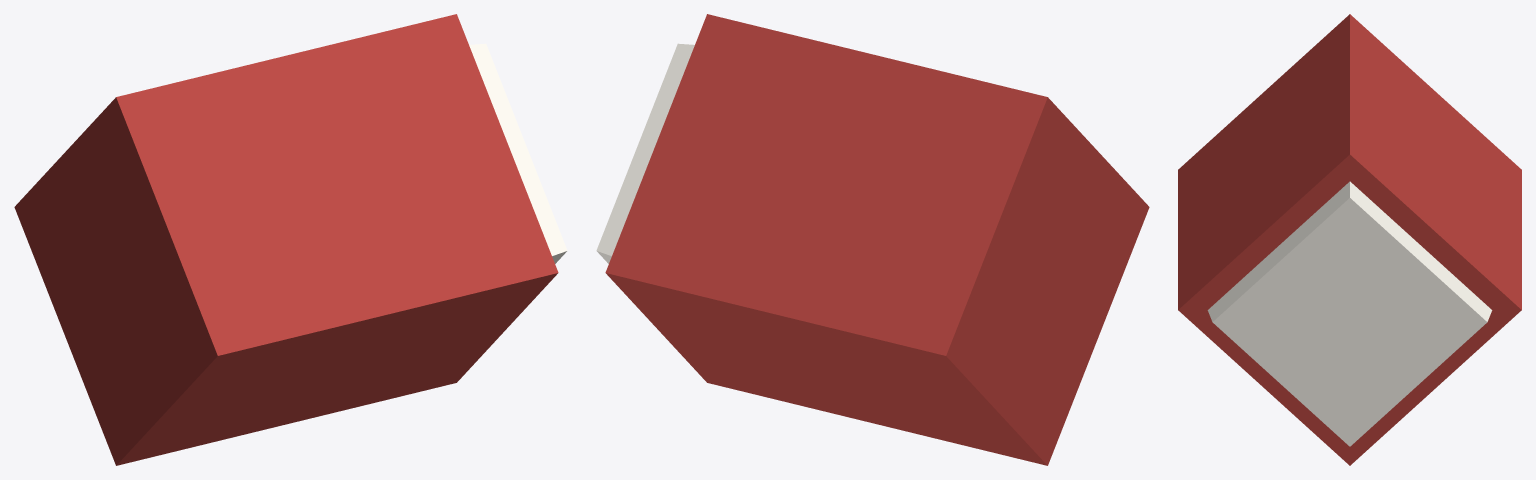
The picture shows the model from 3 angles, left to right: view 1: azimuth 30°, elevation 25°; view 2: azimuth 150°, elevation 25°; view 3: azimuth 270°, elevation 25°; orthographic projection. The views are drawn at different scales.
Visible parts, largest first — view 1: cube_lod2; view 2: cube_lod2; view 3: cube_lod2.
Part boxes in pixels (x1,y1,x2,y2): cube_lod2: (14,14,567,465); cube_lod2: (596,14,1149,465); cube_lod2: (1178,14,1521,465).
Size of the model in its own units: 0.063 by 0.06 by 0.06.
